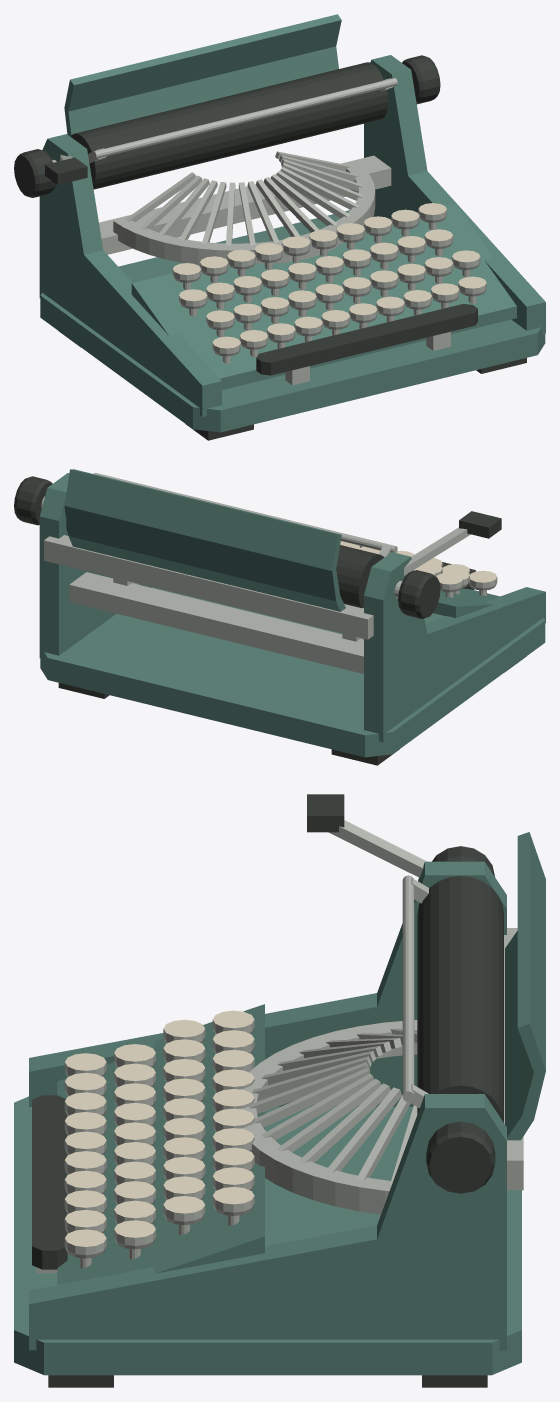
3 renders of one model, top to bottom at view 1: azimuth 30°, elevation 25°; view 2: azimuth 150°, elevation 25°; view 3: azimuth 270°, elevation 25°, orthographic. The views are drawn at different scales.
Visible parts, largest first — view 1: WholeLowChamferedBase, WholeInclinedKeyboardDeck, WholeRisingSideCheekL, WholeHorizontalPlaten, WholeCurvedRearPaperGuard, WholeRisingSideCheekR, WholeFrontSpaceBar, WholeOpenTypebarSegment, WholeRearCarriageBridge, WholeFrontPaperBail, WholePlatenSideKnobL, WholePlatenSideKnobR (+53 smaller); view 2: WholeLowChamferedBase, WholeCurvedRearPaperGuard, WholeRisingSideCheekL, WholeRearCarriageBridge, WholePaperGuardLowerRail, WholeRisingSideCheekR, WholeHorizontalPlaten, WholePlatenSideKnobL, WholePlatenSideKnobR, WholeInclinedKeyboardDeck, WholeFrontPaperBail, WholeFixedReturnLever (+4 smaller); view 3: WholeRisingSideCheekR, WholeLowChamferedBase, WholeHorizontalPlaten, WholeInclinedKeyboardDeck, WholeRisingSideCheekL, WholeCurvedRearPaperGuard, WholeOpenTypebarSegment, WholeFrontSpaceBar, WholePlatenSideKnobR, WholeFrontPaperBail, WholeFixedReturnLever, WholeReturnLeverGrip (+54 smaller).
Boxes of the visible parts, x1=… form: WholeLowChamferedBase: x1=40, y1=210, x2=545, y2=432; WholeInclinedKeyboardDeck: x1=131, y1=204, x2=516, y2=389; WholeRisingSideCheekL: x1=39, y1=134, x2=221, y2=416; WholeHorizontalPlaten: x1=70, y1=62, x2=388, y2=189; WholeCurvedRearPaperGuard: x1=64, y1=14, x2=341, y2=135; WholeRisingSideCheekR: x1=364, y1=55, x2=545, y2=334; WholeFrontSpaceBar: x1=256, y1=304, x2=477, y2=375; WholeOpenTypebarSegment: x1=113, y1=161, x2=375, y2=265; WholeRearCarriageBridge: x1=99, y1=155, x2=391, y2=254; WholeFrontPaperBail: x1=92, y1=78, x2=397, y2=159; WholePlatenSideKnobL: x1=14, y1=149, x2=55, y2=197; WholePlatenSideKnobR: x1=402, y1=55, x2=440, y2=104; WholeLowChamferedBase: x1=40, y1=587, x2=545, y2=757; WholeCurvedRearPaperGuard: x1=64, y1=469, x2=345, y2=611; WholeRisingSideCheekL: x1=364, y1=552, x2=545, y2=741; WholeRearCarriageBridge: x1=69, y1=572, x2=363, y2=673; WholePaperGuardLowerRail: x1=44, y1=535, x2=373, y2=639; WholeRisingSideCheekR: x1=39, y1=473, x2=152, y2=659; WholeHorizontalPlaten: x1=66, y1=521, x2=383, y2=608; WholePlatenSideKnobL: x1=398, y1=570, x2=440, y2=618; WholePlatenSideKnobR: x1=14, y1=476, x2=52, y2=525; WholeInclinedKeyboardDeck: x1=433, y1=588, x2=499, y2=617; WholeFrontPaperBail: x1=94, y1=473, x2=397, y2=552; WholeFixedReturnLever: x1=404, y1=527, x2=470, y2=575; WholeRisingSideCheekR: x1=29, y1=1094, x2=506, y2=1350; WholeLowChamferedBase: x1=14, y1=1096, x2=521, y2=1375; WholeHorizontalPlaten: x1=417, y1=876, x2=503, y2=1122; WholeInclinedKeyboardDeck: x1=57, y1=1004, x2=264, y2=1284; WholeRisingSideCheekL: x1=29, y1=861, x2=506, y2=1106; WholeCurvedRearPaperGuard: x1=505, y1=832, x2=545, y2=1140; WholeOpenTypebarSegment: x1=239, y1=1020, x2=417, y2=1214; WholeFrontSpaceBar: x1=32, y1=1095, x2=67, y2=1269; WholePlatenSideKnobR: x1=426, y1=1121, x2=495, y2=1193; WholeFrontPaperBail: x1=402, y1=875, x2=414, y2=1101; WholeFixedReturnLever: x1=329, y1=820, x2=426, y2=877; WholeReturnLeverGrip: x1=307, y1=794, x2=344, y2=832.
Bounding box in the file's own units: 0.482 × 0.255 × 0.356.
